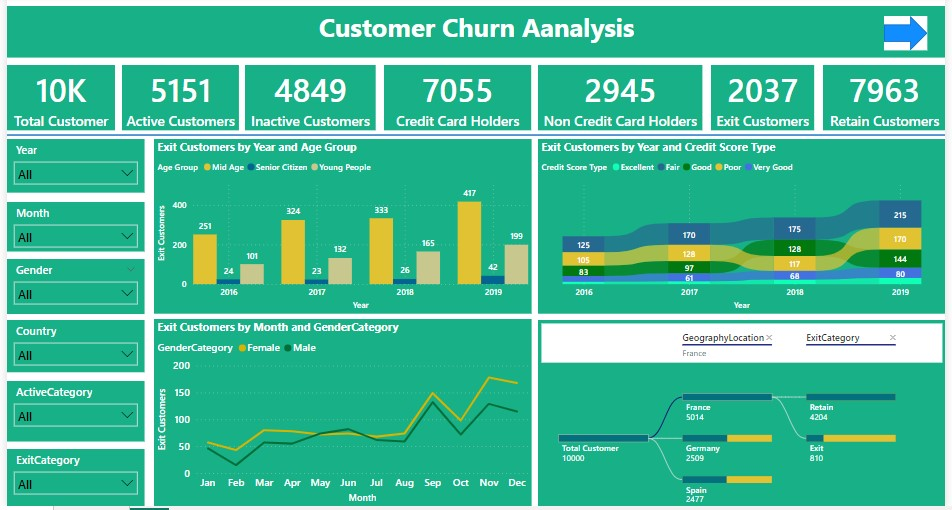

The page's visual inventory and layout, read from the dashboard file:
{"tool":"powerbi","page":{"name":"Page 1","canvas":[1365,740],"ordinal":0},"visuals":[{"type":"card","fields":{"Values":["Calculations.Total Customer"]},"box":[0,99,157,94.8],"z":0},{"type":"card","fields":{"Values":["Calculations.Active Customers"]},"box":[166.9,99,169.7,94.8],"z":1000},{"type":"card","fields":{"Values":["Calculations.Inactive Customers"]},"box":[346.6,99,189.5,94.8],"z":2000},{"type":"textbox","box":[0,13.2,1365,74.9],"z":3000},{"type":"card","fields":{"Values":["Calculations.Credit Card Holders"]},"box":[547.4,99,213.6,94.8],"z":4000},{"type":"card","fields":{"Values":["Calculations.Non Credit Card Holders"]},"box":[772.3,99,239.1,94.8],"z":5000},{"type":"card","fields":{"Values":["Calculations.Exit Customers"]},"box":[1024.1,99,149.9,94.8],"z":6000},{"type":"card","fields":{"Values":["Calculations.Retain Customers"]},"box":[1185.9,98.3,179.1,95.4],"z":7000},{"type":"slicer","fields":{"Values":["Gender.GenderCategory"]},"box":[0,380.9,199.5,80.1],"z":8000},{"type":"slicer","fields":{"Values":["Geography.GeographyLocation"]},"box":[0,470.1,199.5,75.6],"z":9000},{"type":"slicer","fields":{"Values":["ActiveCustomer.ActiveCategory"]},"box":[0,557.8,199.5,87.7],"z":10000},{"type":"slicer","fields":{"Values":["ExitCustomer.ExitCategory"]},"box":[0,657.6,199.5,83.1],"z":11000},{"type":"slicer","fields":{"Values":["DateMaster.Year"]},"box":[0,207,199.6,77.8],"z":12000},{"type":"slicer","fields":{"Values":["DateMaster.Month"]},"box":[0,298,199.6,71.9],"z":13000},{"type":"shape","box":[0,183.5,1365,35.2],"z":14000},{"type":"clusteredColumnChart","fields":{"Category":["DateMaster.Year","DateMaster.Month"],"Y":["Calculations.Exit Customers"],"Series":["Bank_Churn.Age Group"]},"box":[213.1,207.1,548.7,254],"z":15000},{"type":"ribbonChart","fields":{"Category":["DateMaster.Year"],"Series":["Bank_Churn.Credit Score Type"],"Y":["Calculations.Exit Customers"]},"box":[772,207,593,253.9],"z":16000},{"type":"lineChart","fields":{"Y":["Calculations.Exit Customers"],"Category":["DateMaster.Year"],"Series":["Gender.GenderCategory"]},"box":[213.1,468.6,548.7,272.1],"z":17000},{"type":"decompositionTreeVisual","fields":{"Analyze":["Calculations.Total Customer"],"ExplainBy":["Geography.GeographyLocation","ExitCustomer.ExitCategory"]},"box":[772,469,593,271],"z":18000},{"type":"shape","box":[1275.5,27.9,63.1,49.9],"z":19000}]}

Visuals, with their boxes in screenshot pixels (x1, y1, x2, y2), scaled from the page's 1365x740 canvas onto the 952x510 screenshot:
card - Calculations.Total Customer: l=0, t=68, r=109, b=134
card - Calculations.Active Customers: l=116, t=68, r=235, b=134
card - Calculations.Inactive Customers: l=242, t=68, r=374, b=134
textbox: l=0, t=9, r=951, b=61
card - Calculations.Credit Card Holders: l=382, t=68, r=531, b=134
card - Calculations.Non Credit Card Holders: l=539, t=68, r=705, b=134
card - Calculations.Exit Customers: l=714, t=68, r=819, b=134
card - Calculations.Retain Customers: l=827, t=68, r=951, b=133
slicer - Gender.GenderCategory: l=0, t=263, r=139, b=318
slicer - Geography.GeographyLocation: l=0, t=324, r=139, b=376
slicer - ActiveCustomer.ActiveCategory: l=0, t=384, r=139, b=445
slicer - ExitCustomer.ExitCategory: l=0, t=453, r=139, b=509
slicer - DateMaster.Year: l=0, t=143, r=139, b=196
slicer - DateMaster.Month: l=0, t=205, r=139, b=255
shape: l=0, t=126, r=951, b=151
clusteredColumnChart - DateMaster.Year x DateMaster.Month: l=149, t=143, r=531, b=318
ribbonChart - DateMaster.Year x Bank_Churn.Credit Score Type: l=538, t=143, r=951, b=318
lineChart - Calculations.Exit Customers x DateMaster.Year: l=149, t=323, r=531, b=509
decompositionTreeVisual - Calculations.Total Customer x Geography.GeographyLocation: l=538, t=323, r=951, b=509
shape: l=890, t=19, r=934, b=54
